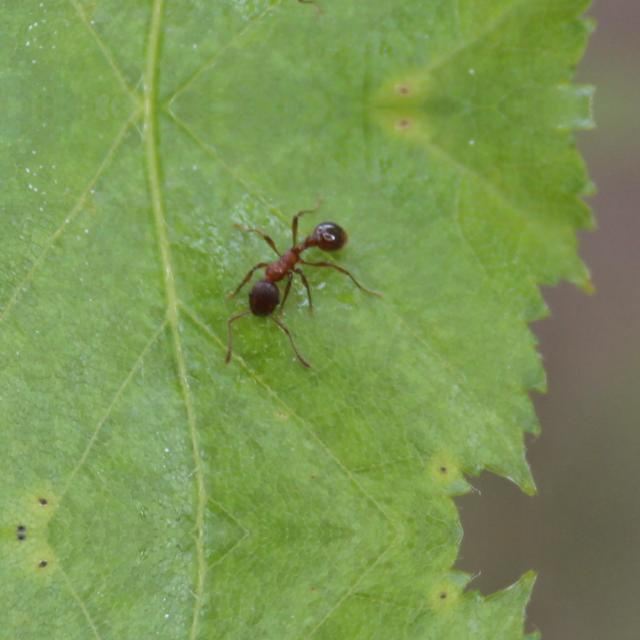Myrmica: (210, 196, 366, 350)
